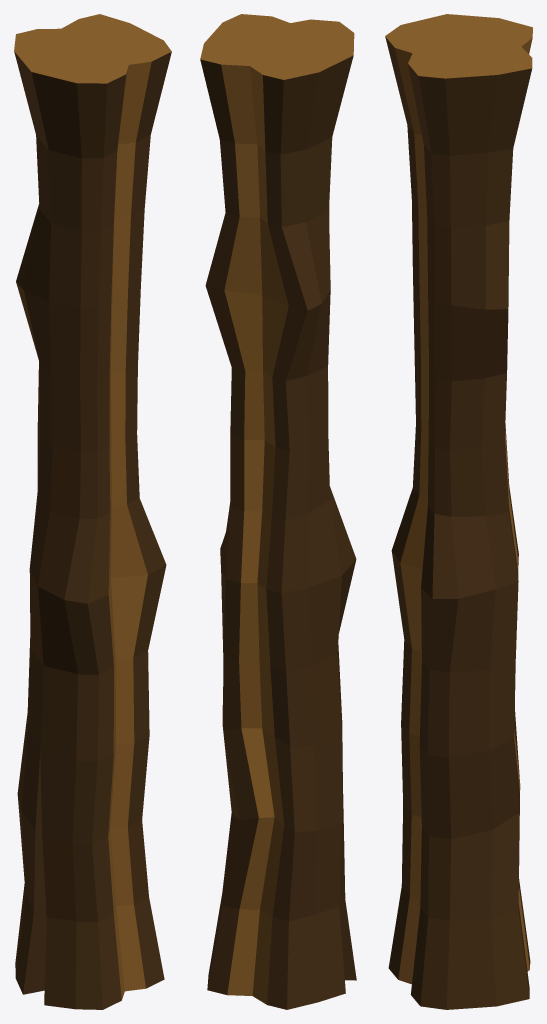
Rendered from log_2.fbx.
3 renders of one model, left to right at view 1: azimuth 30°, elevation 25°; view 2: azimuth 150°, elevation 25°; view 3: azimuth 270°, elevation 25°, orthographic.
Visible parts, largest first — view 1: Cylinder; view 2: Cylinder; view 3: Cylinder.
Part boxes in pixels (x1,y1,x2,y2): Cylinder: [14, 14, 171, 1009]; Cylinder: [200, 14, 356, 1009]; Cylinder: [385, 14, 532, 1009].
Size of the model in its own units: 29.75 by 200 by 28.7.
